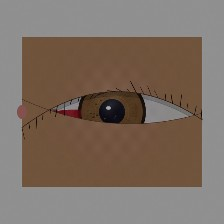hemorrhage_spot: (27, 85, 118, 157)
